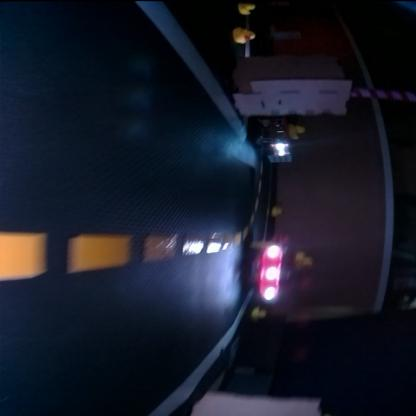Duckie: (234, 28, 256, 42), (296, 252, 314, 269), (251, 306, 269, 320), (289, 126, 307, 138), (272, 206, 284, 216)
Duckiebot: (254, 233, 294, 299), (257, 115, 293, 155)
